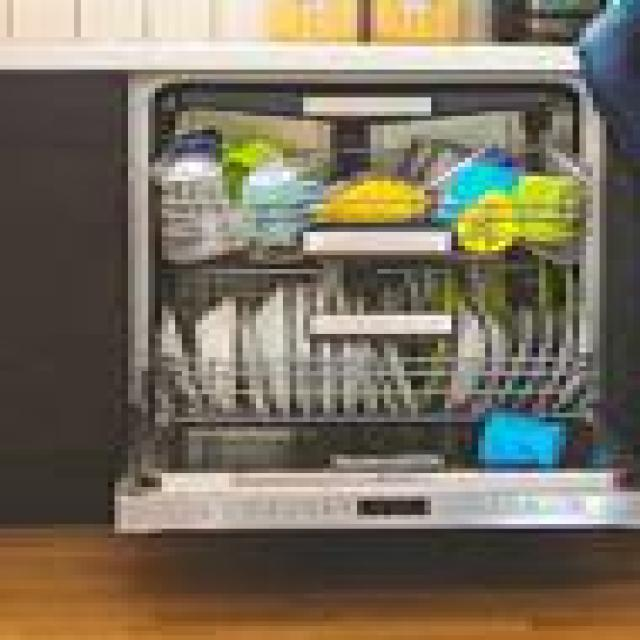dishwasher: (115, 65, 633, 529)
